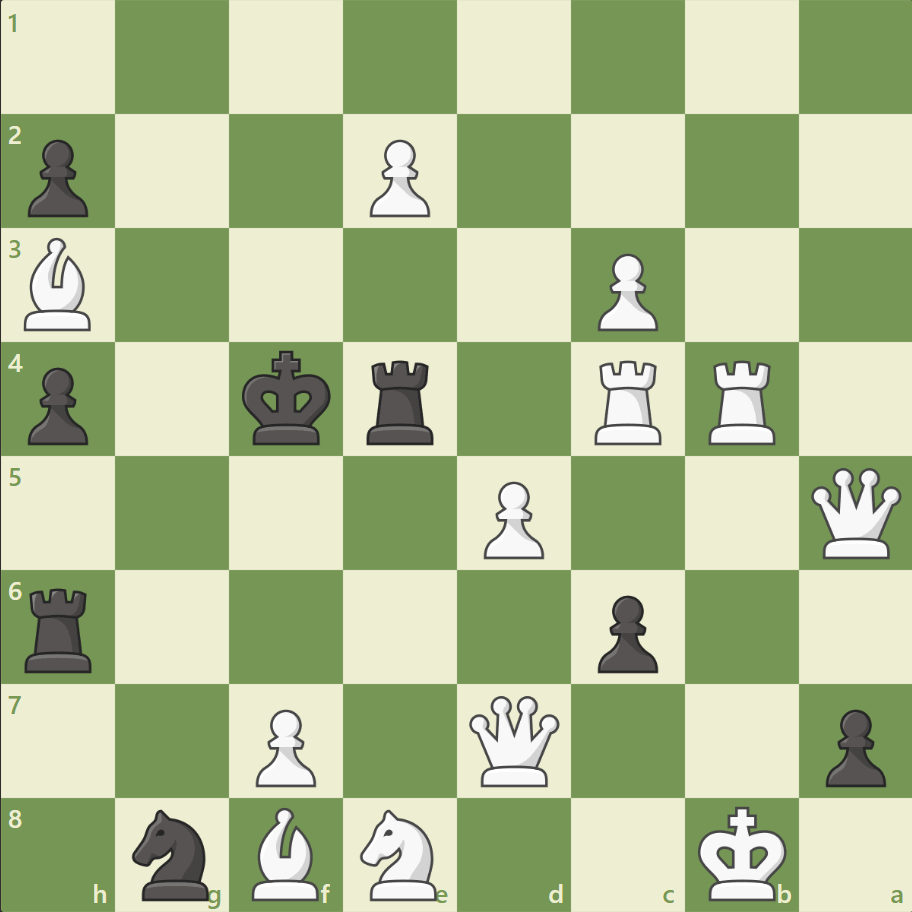B: (244, 801, 328, 904), (17, 233, 101, 336)
K: (692, 798, 792, 906)
N: (351, 802, 449, 904)
P: (247, 700, 322, 791), (474, 473, 549, 564), (588, 246, 662, 337), (361, 132, 435, 223)
Q: (464, 690, 563, 789), (805, 463, 904, 562)
R: (700, 352, 783, 449), (587, 352, 670, 449)
k: (238, 344, 338, 452)
n: (124, 802, 222, 904)
p: (20, 359, 95, 450), (20, 132, 95, 223), (815, 700, 889, 791), (588, 586, 662, 677)
r: (19, 579, 102, 676), (360, 352, 442, 449)
